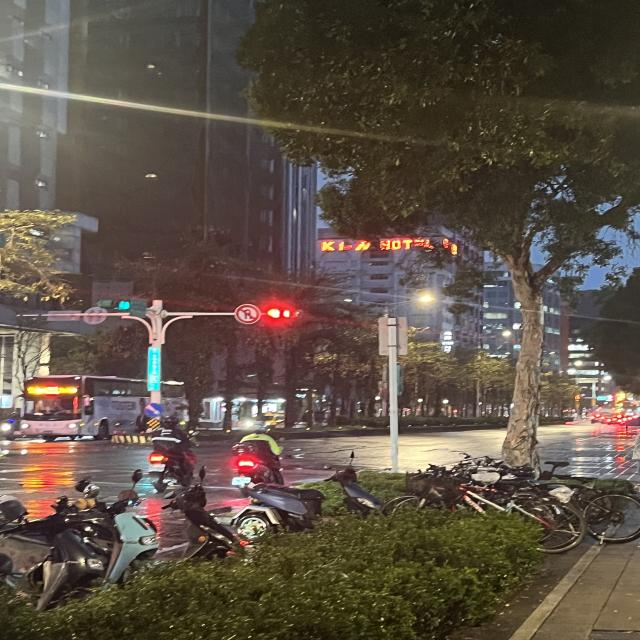red light: (260, 305, 307, 324)
